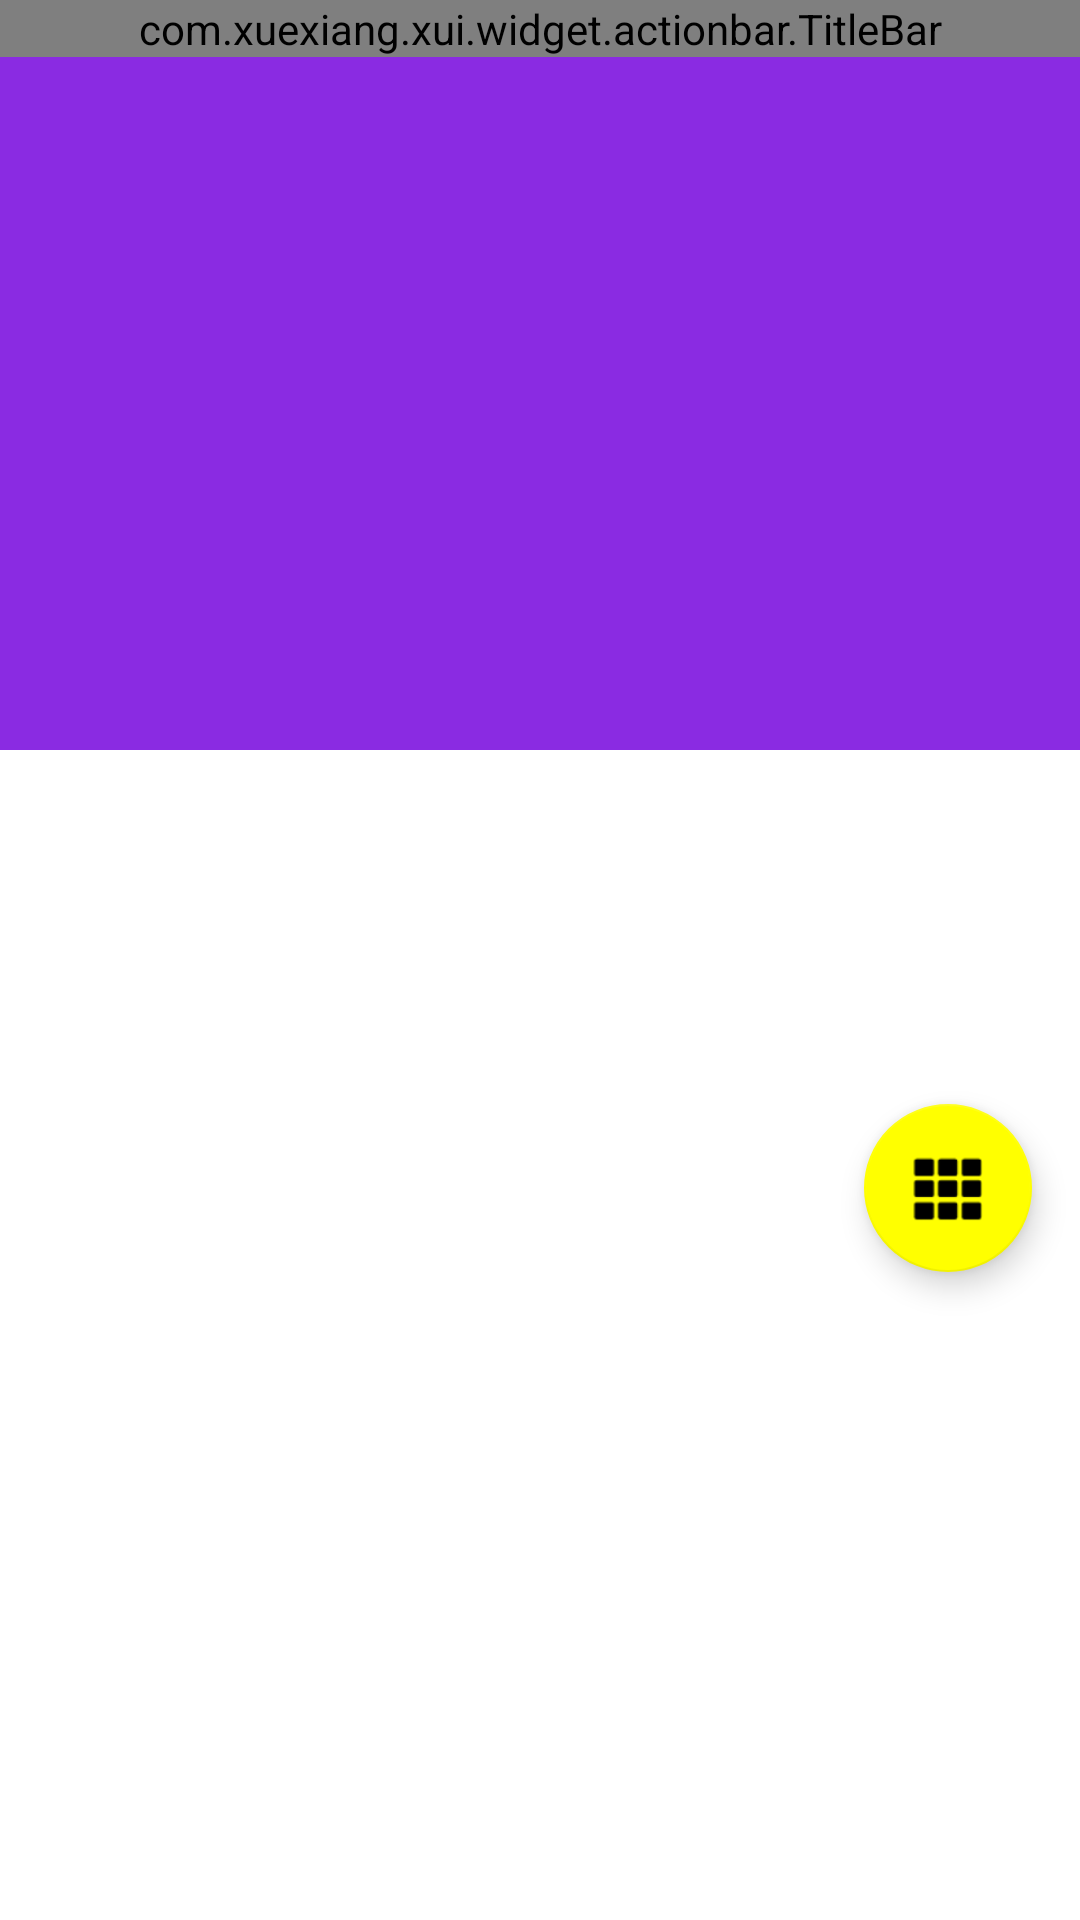

Icon click points for this 1080 × 1920 phone screenshot, format (x,y):
dialer: (948,1188)
